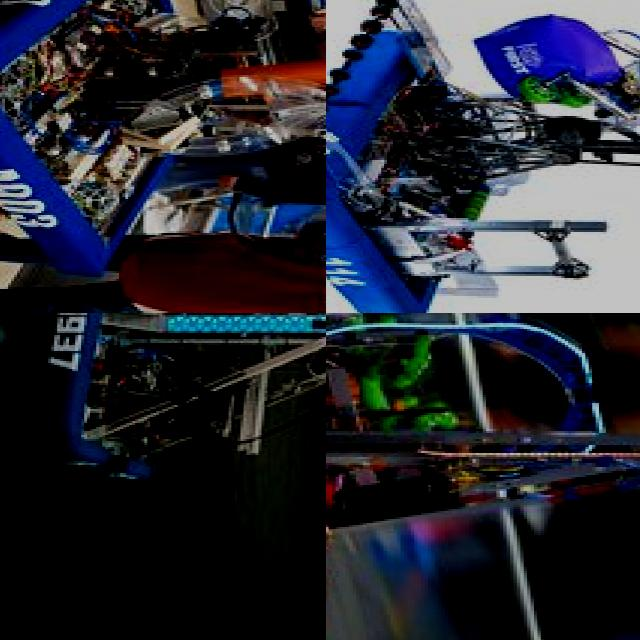FRC-Robots: (326, 0, 640, 313), (0, 0, 326, 289), (326, 358, 640, 621), (22, 313, 326, 488), (326, 313, 640, 349)
